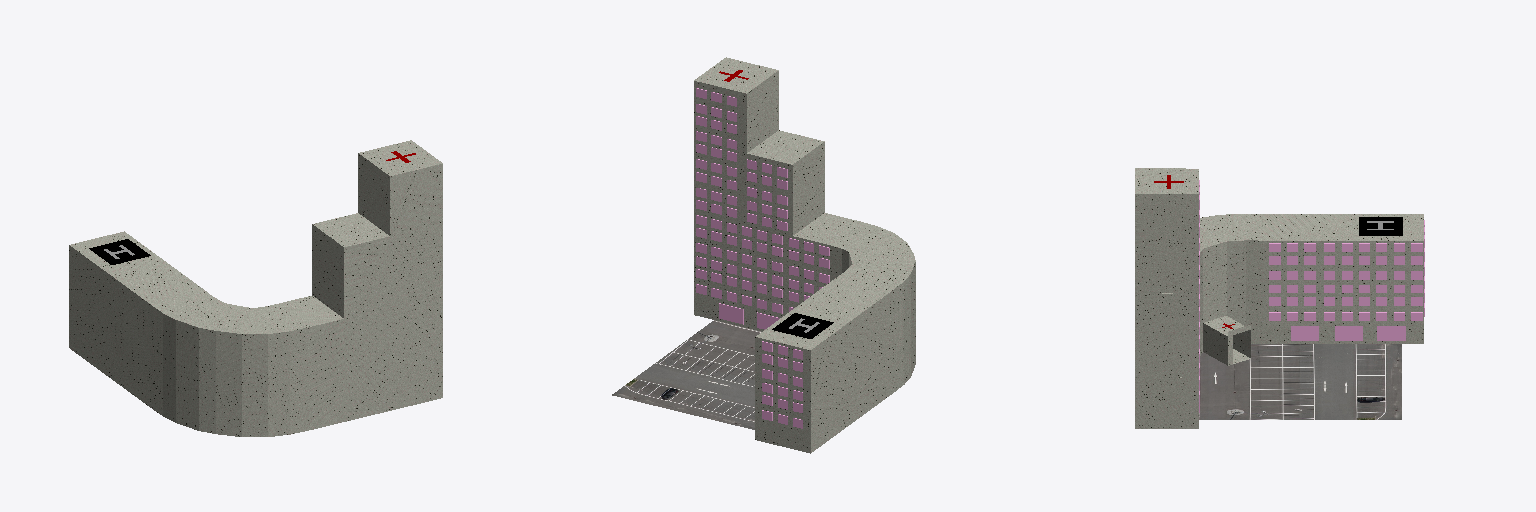
The picture shows the model from 3 angles: view 1: azimuth 30°, elevation 25°; view 2: azimuth 150°, elevation 25°; view 3: azimuth 270°, elevation 25°; orthographic projection.
Visible parts, largest first — view 1: edificio_Cube.005, Plane; view 2: edificio_Cube.005, ventanas_Cube.007, Plane.004_Plane.005, Plane; view 3: edificio_Cube.005, Plane.004_Plane.005, ventanas.001_Cube.090, Plane.
Boxes of the visible parts, x1,y1,x2,y2 form: edificio_Cube.005: [69, 140, 442, 436]; Plane: [89, 239, 150, 264]; edificio_Cube.005: [694, 57, 915, 453]; ventanas_Cube.007: [696, 88, 829, 428]; Plane.004_Plane.005: [612, 320, 760, 429]; Plane: [772, 313, 833, 338]; edificio_Cube.005: [1135, 168, 1423, 428]; Plane.004_Plane.005: [1199, 344, 1401, 419]; ventanas.001_Cube.090: [1269, 220, 1424, 340]; Plane: [1359, 217, 1402, 235].
Bounding box in the file's own units: 3.3 × 3.23 × 3.61.
Materials: 9 (3 with a texture image).